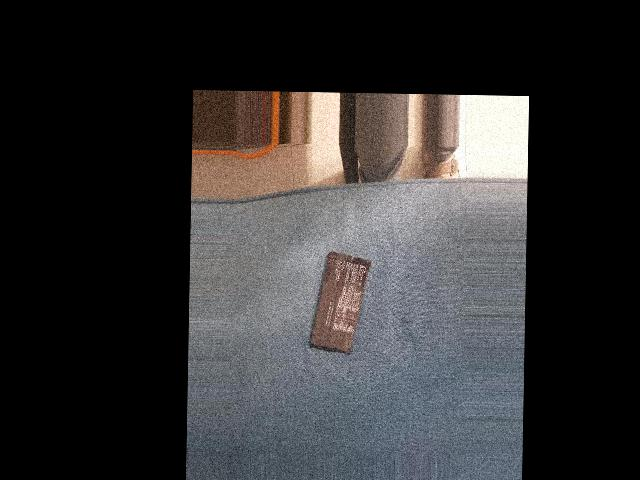chocolate: (306, 249, 379, 354)
